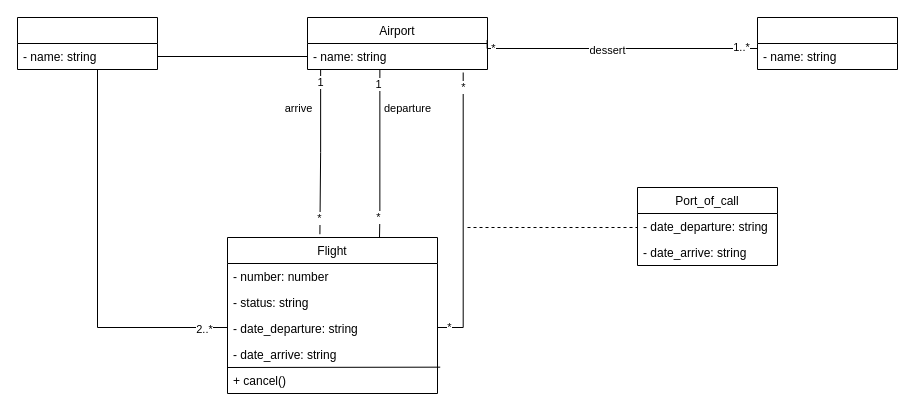
Image size: 915x414. Some labels were removed from this diagram. Here are the shapes that lost their labels. From the top down, the box of each, then its label:
(16, 16, 158, 70): Company
(756, 16, 898, 70): City
